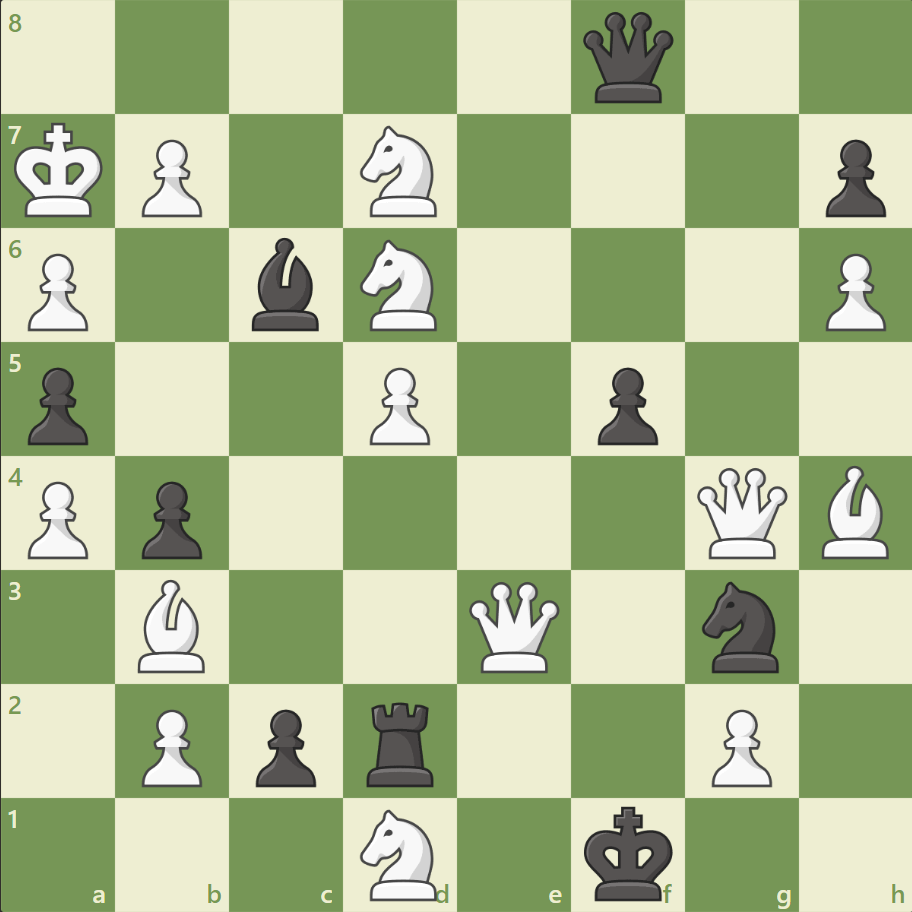B: (812, 460, 896, 563), (131, 574, 215, 676)
K: (11, 117, 111, 225)
N: (351, 234, 449, 337), (351, 121, 449, 223), (351, 802, 449, 904)
P: (133, 132, 208, 223), (20, 246, 95, 337), (20, 473, 95, 564), (133, 700, 208, 791), (701, 700, 776, 791), (815, 246, 889, 337), (361, 359, 435, 450)
Q: (464, 576, 563, 676), (691, 463, 790, 562)
b: (244, 233, 328, 336)
k: (579, 798, 679, 906)
n: (692, 575, 789, 677)
p: (20, 359, 95, 450), (133, 473, 208, 564), (247, 700, 322, 791), (815, 132, 889, 223), (588, 359, 662, 450)
q: (578, 9, 677, 108)
r: (360, 693, 442, 790)
